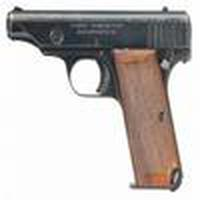gun: (7, 4, 187, 198)
